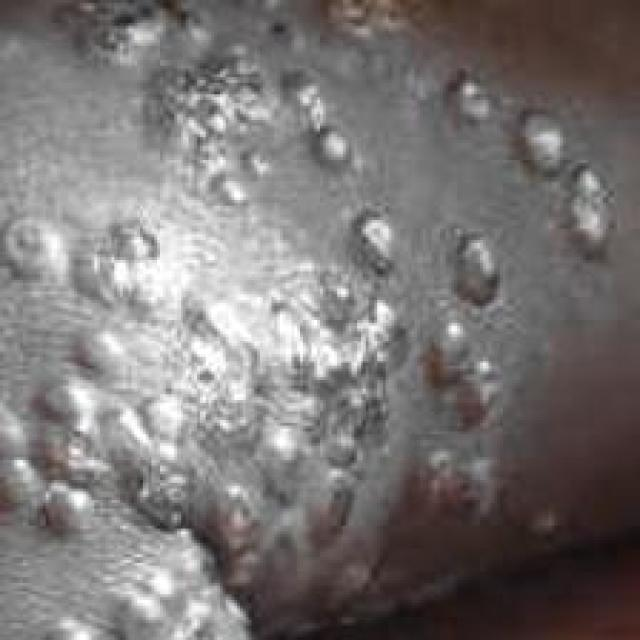monkeypox: (0, 0, 621, 623)
